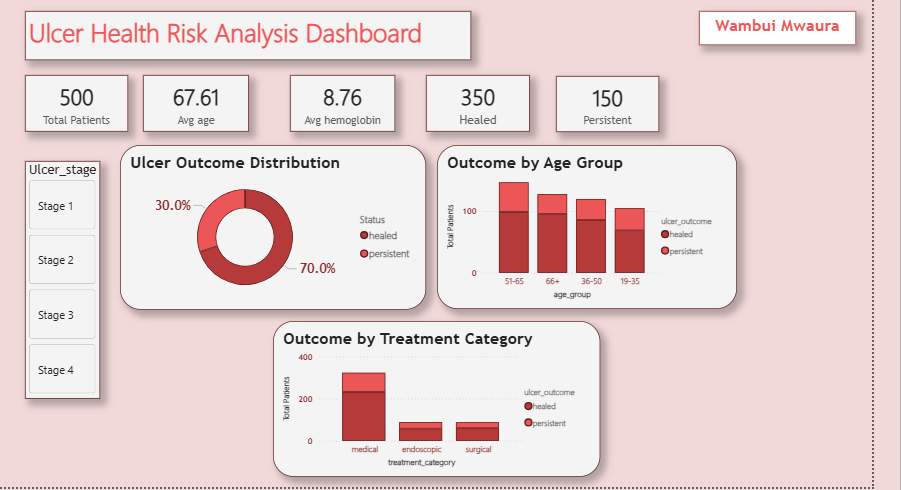

This screenshot's page, from the dashboard's own definition file:
{"tool":"powerbi","page":{"name":"Outcomes","canvas":[1280,720],"ordinal":3},"visuals":[{"type":"card","fields":{"Values":["CountNonNull(ulcer_cleaned_data.patient_id)"]},"box":[39.5,117.1,150.7,83.4],"z":0},{"type":"card","fields":{"Values":["Avg(ulcer_cleaned_data.age)"]},"box":[212.2,117.1,155.1,83.4],"z":1000},{"type":"card","fields":{"Values":["CountNonNull(ulcer_cleaned_data.ulcer_outcome)"]},"box":[626.3,117.1,152.2,83.4],"z":2000},{"type":"card","fields":{"Values":["CountNonNull(ulcer_cleaned_data.ulcer_outcome)"]},"box":[816.4,119.3,151.2,82.3],"z":3000},{"type":"textbox","box":[39.5,23.4,652.7,71.7],"z":4000},{"type":"advancedSlicerVisual","fields":{"Values":["Ulcer Image Dataset.Ulcer_stage"]},"box":[39.5,242.9,109.8,348.3],"z":5000},{"type":"donutChart","title":"Ulcer Outcome Distribution","fields":{"Y":["CountNonNull(ulcer_cleaned_data.patient_id)"],"Category":["ulcer_cleaned_data.ulcer_outcome"]},"box":[178.5,219.5,447.8,241.5],"z":6000},{"type":"card","fields":{"Values":["Avg(ulcer_cleaned_data.hemoglobin_g_dl)"]},"box":[427.3,117.1,153.7,83.4],"z":7000},{"type":"columnChart","title":"Outcome by Age Group","fields":{"Y":["CountNonNull(ulcer_cleaned_data.patient_id)"],"Category":["ulcer_cleaned_data.age_group"],"Series":["ulcer_cleaned_data.ulcer_outcome"]},"box":[642.4,219.5,439,240],"z":8000},{"type":"columnChart","title":"Outcome by Treatment Category","fields":{"Y":["CountNonNull(ulcer_cleaned_data.patient_id)"],"Series":["ulcer_cleaned_data.ulcer_outcome"],"Category":["ulcer_cleaned_data.treatment_category"]},"box":[402.4,477.1,478.5,228.3],"z":9000},{"type":"textbox","box":[1025.9,23.4,229.8,49.8],"z":9001}]}

Visuals, with their boxes on the page's 1280x720 design canvas (x1, y1, x2, y2). These are canvas units, not pixel positions in the 901x490 screenshot, which may show the page scaled, cropped or inside an application window:
card - CountNonNull(ulcer_cleaned_data.patient_id): <box>40,117,190,200</box>
card - Avg(ulcer_cleaned_data.age): <box>212,117,367,200</box>
card - CountNonNull(ulcer_cleaned_data.ulcer_outcome): <box>626,117,778,200</box>
card - CountNonNull(ulcer_cleaned_data.ulcer_outcome): <box>816,119,968,202</box>
textbox: <box>40,23,692,95</box>
advancedSlicerVisual - Ulcer Image Dataset.Ulcer_stage: <box>40,243,149,591</box>
"Ulcer Outcome Distribution" donutChart: <box>178,220,626,461</box>
card - Avg(ulcer_cleaned_data.hemoglobin_g_dl): <box>427,117,581,200</box>
"Outcome by Age Group" columnChart: <box>642,220,1081,460</box>
"Outcome by Treatment Category" columnChart: <box>402,477,881,705</box>
textbox: <box>1026,23,1256,73</box>
